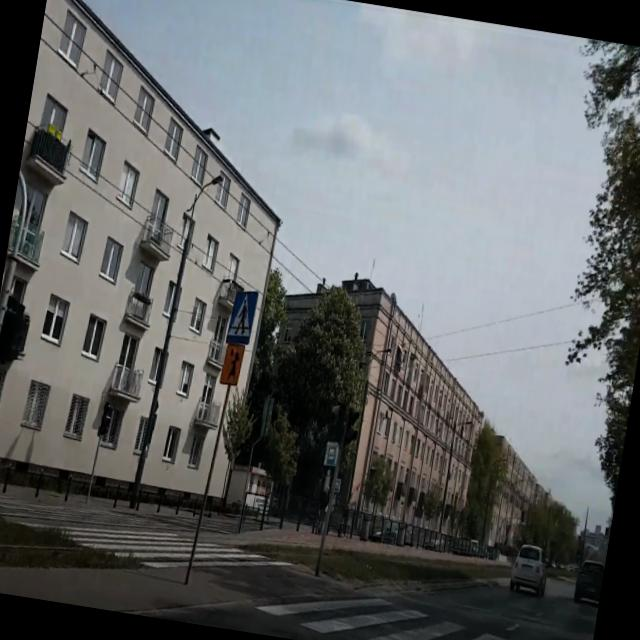Przejscie dla pieszych: (228, 290, 256, 344)
